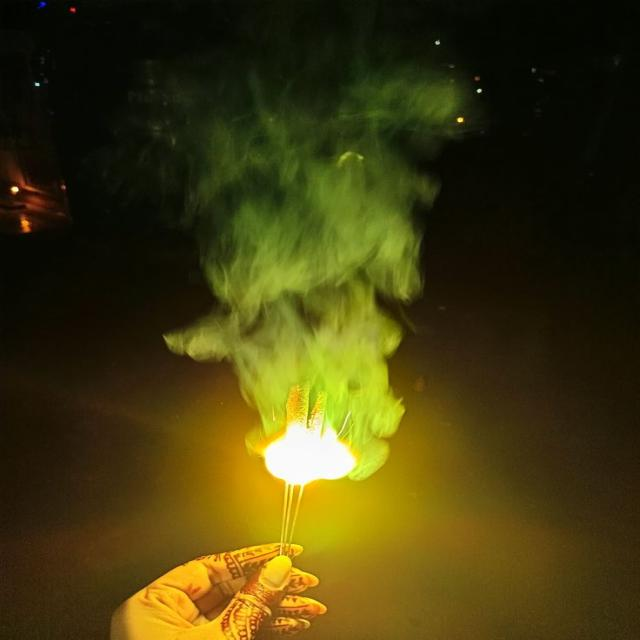fire: (264, 420, 360, 485)
